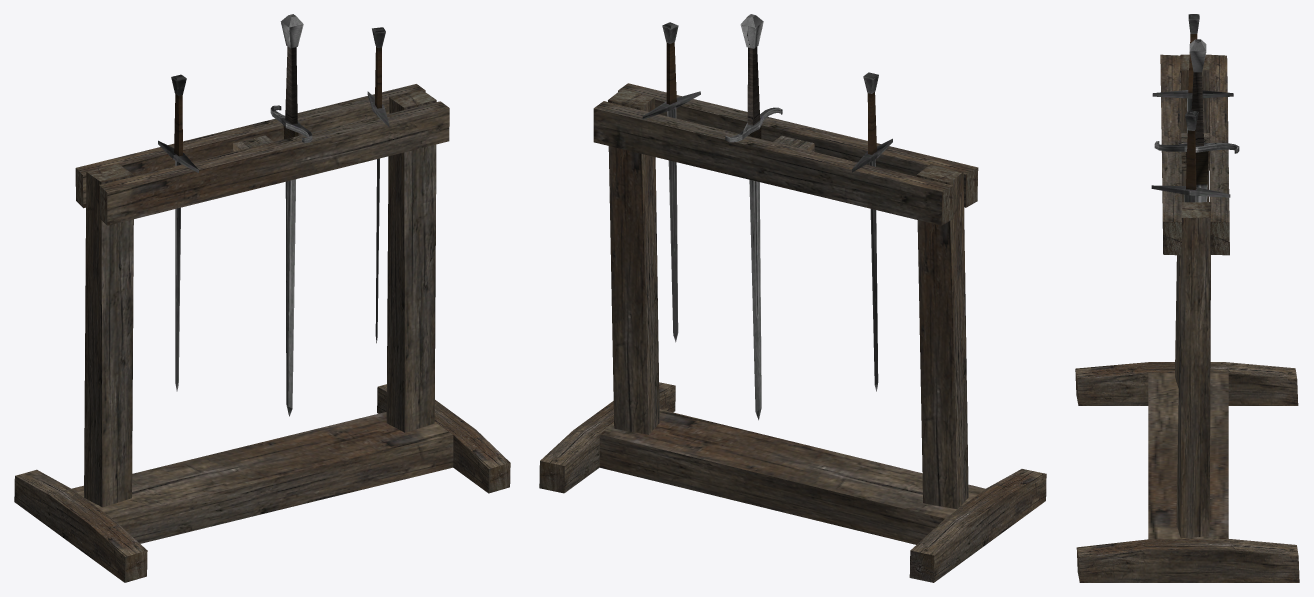
Rendered from d_sg_shouyou_wuqijia01_qt.FBX.
3 renders of one model, left to right at view 1: azimuth 30°, elevation 25°; view 2: azimuth 150°, elevation 25°; view 3: azimuth 270°, elevation 25°, orthographic.
Visible parts, largest first — view 1: d_sg_shouyou_wuqijia01_qt; view 2: d_sg_shouyou_wuqijia01_qt; view 3: d_sg_shouyou_wuqijia01_qt.
Boxes of the visible parts, bbox=[...] form: d_sg_shouyou_wuqijia01_qt: bbox=[14, 14, 510, 582]; d_sg_shouyou_wuqijia01_qt: bbox=[539, 14, 1046, 582]; d_sg_shouyou_wuqijia01_qt: bbox=[1075, 14, 1299, 582].
Bounding box in the file's own units: 1.38 × 1.59 × 0.6925.
